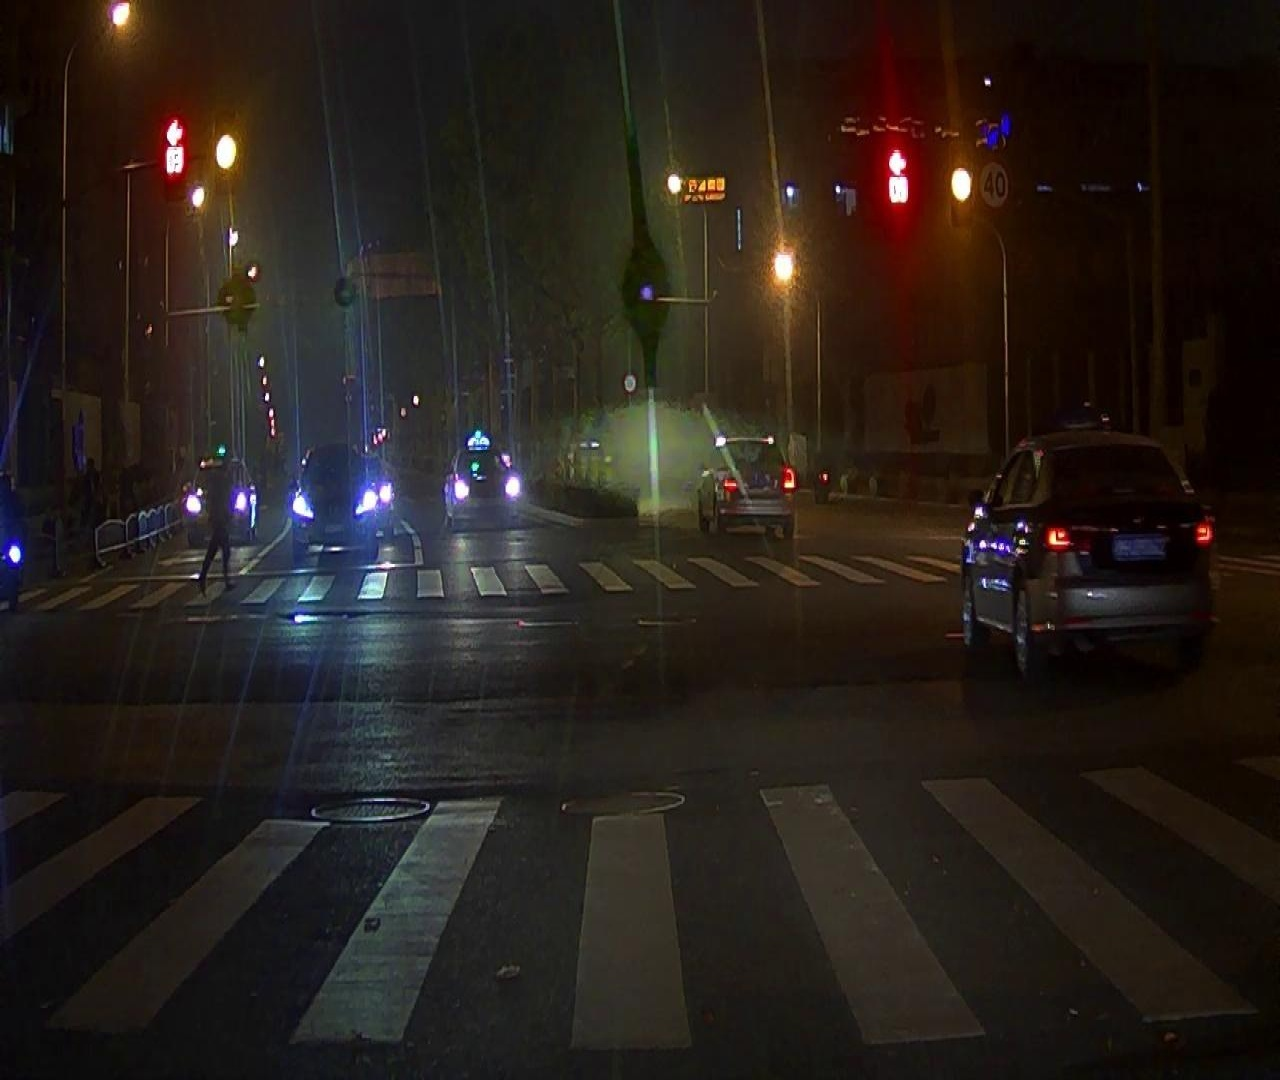red: (166, 117, 182, 184), (890, 153, 908, 207)
yellow: (953, 166, 972, 205), (216, 138, 235, 169)
